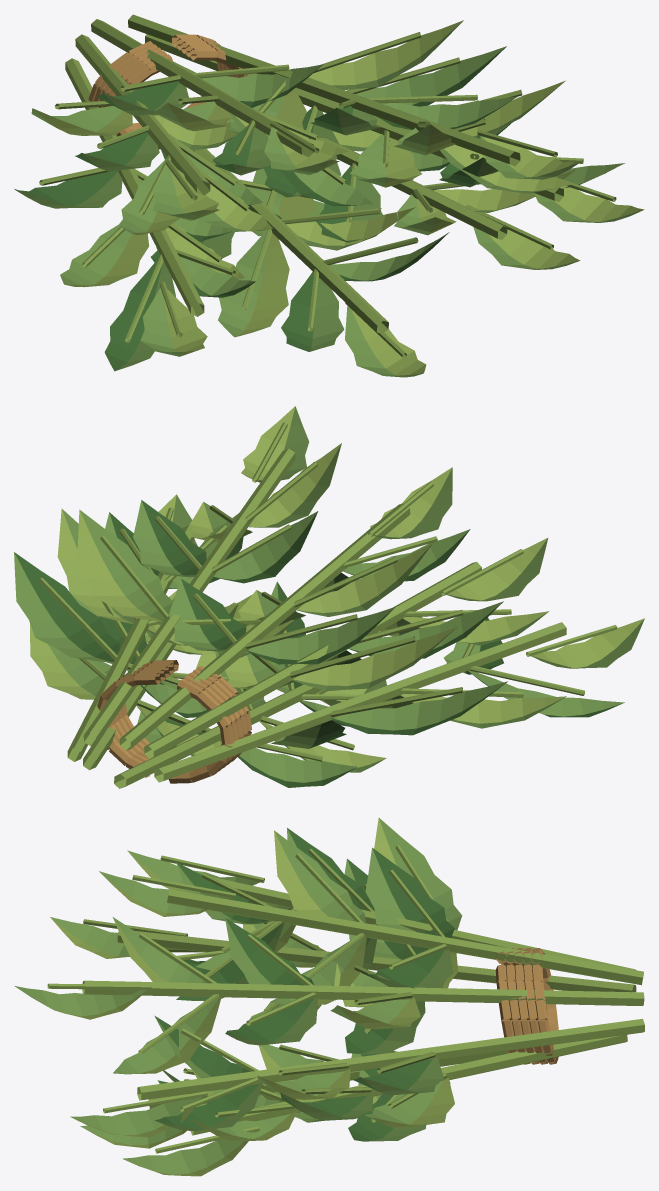
File: herb_bundle.glb
3 renders of one model, top to bottom at view 1: azimuth 30°, elevation 25°; view 2: azimuth 150°, elevation 25°; view 3: azimuth 270°, elevation 25°, orthographic. The views are drawn at different scales.
Parts seen in each view (by area): view 1: Camp herb bundle; view 2: Camp herb bundle; view 3: Camp herb bundle.
Boxes of the visible parts, left/top/right/bottom form: Camp herb bundle: left=14, top=14, right=644, bottom=377; Camp herb bundle: left=14, top=406, right=644, bottom=788; Camp herb bundle: left=14, top=817, right=644, bottom=1176.
Bounding box in the file's own units: 0.2636 × 0.1236 × 0.29.
